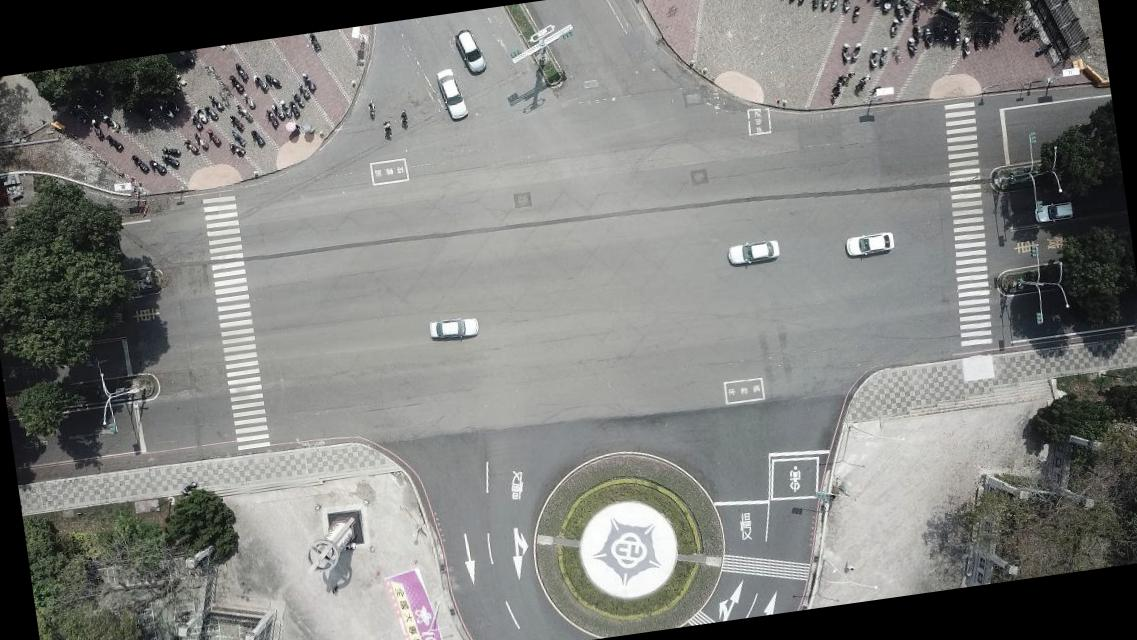vehicle: (434, 65, 471, 123), (725, 236, 783, 269), (452, 26, 488, 77), (842, 230, 898, 260), (427, 314, 482, 344), (1031, 198, 1075, 225)
